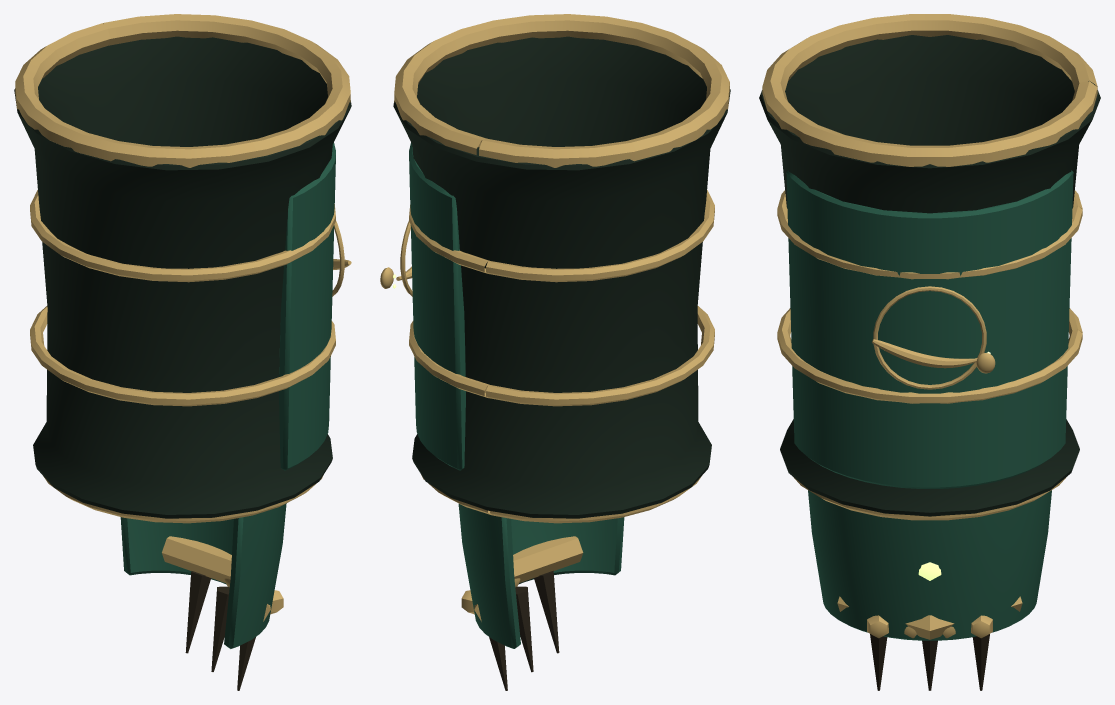
Rendered from boss_serpent_veil_gloves_1.glb.
3 renders of one model, left to right at view 1: azimuth 30°, elevation 25°; view 2: azimuth 150°, elevation 25°; view 3: azimuth 270°, elevation 25°, orthographic.
Visible parts, largest first — view 1: boss_serpent_veil_gloves_1, AT_hand_L; view 2: boss_serpent_veil_gloves_1, AT_hand_L; view 3: boss_serpent_veil_gloves_1, AT_hand_L.
Boxes of the visible parts, box(x1,y1,x2,y2) form: boss_serpent_veil_gloves_1: box(14, 14, 351, 523); AT_hand_L: box(120, 503, 286, 690); boss_serpent_veil_gloves_1: box(380, 14, 730, 523); AT_hand_L: box(458, 504, 624, 690); boss_serpent_veil_gloves_1: box(759, 14, 1100, 520); AT_hand_L: box(808, 490, 1051, 690).
Size of the model in its own units: 0.2009 by 0.385 by 0.2004.
